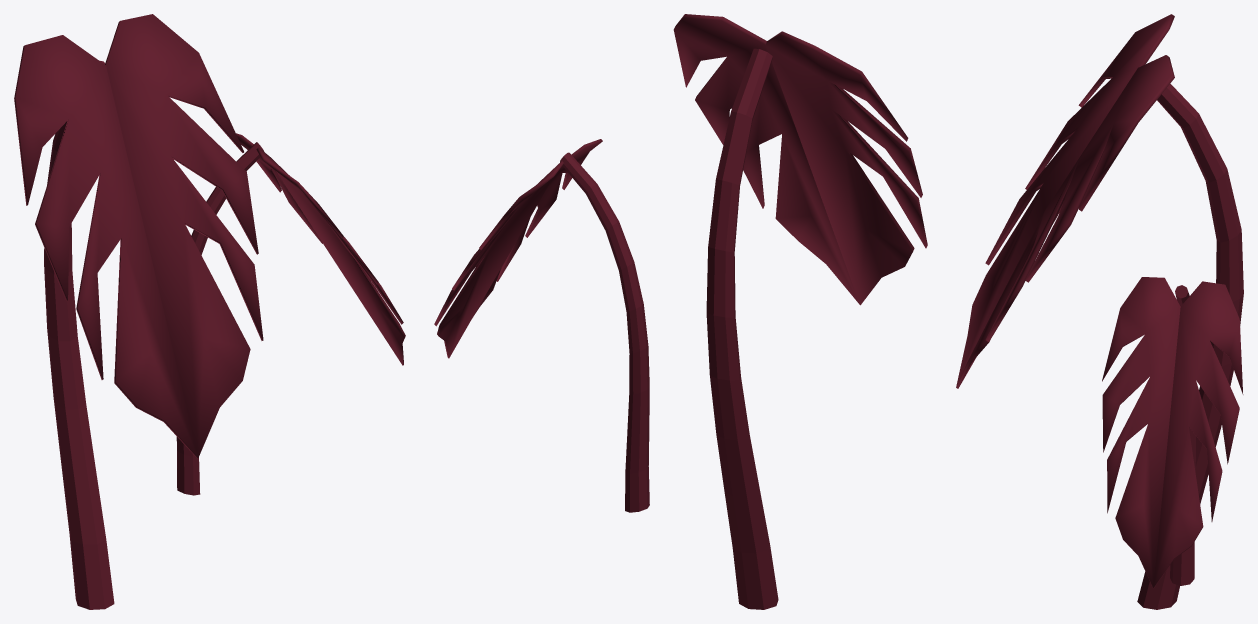
Rendered from Muerta_Pe_Monstera.fbx.
The picture shows the model from 3 angles, left to right: view 1: azimuth 30°, elevation 25°; view 2: azimuth 150°, elevation 25°; view 3: azimuth 270°, elevation 25°; orthographic projection. The views are drawn at different scales.
Parts seen in each view (by area): view 1: Monstera_Muerta_Pe; view 2: Monstera_Muerta_Pe; view 3: Monstera_Muerta_Pe.
Boxes of the visible parts, left/top/right/bottom form: Monstera_Muerta_Pe: left=14, top=14, right=405, bottom=609; Monstera_Muerta_Pe: left=434, top=14, right=927, bottom=609; Monstera_Muerta_Pe: left=956, top=14, right=1243, bottom=609.
Size of the model in its own units: 166 by 219 by 102.
